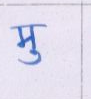u_matra: (18, 48, 43, 66)
